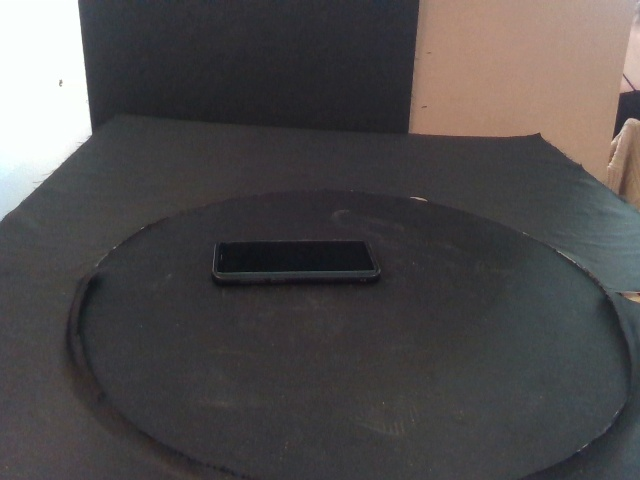phone: (211, 238, 381, 287)
